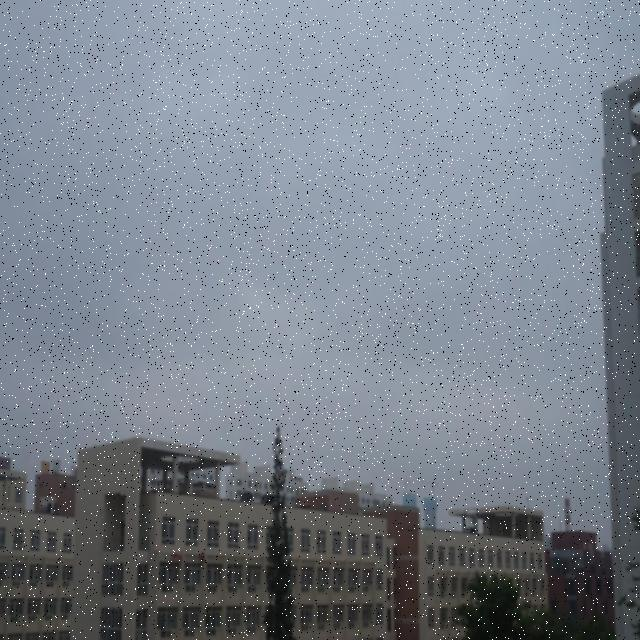UAV: (462, 508, 484, 528)
